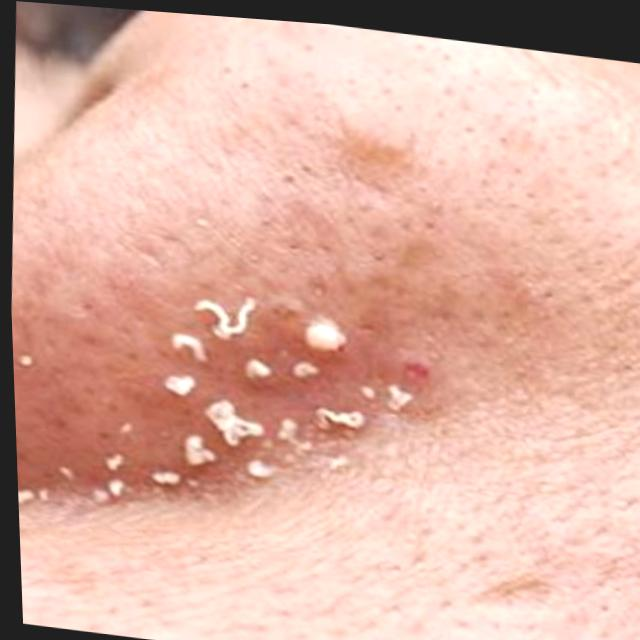whitehead: (13, 241, 470, 542)
